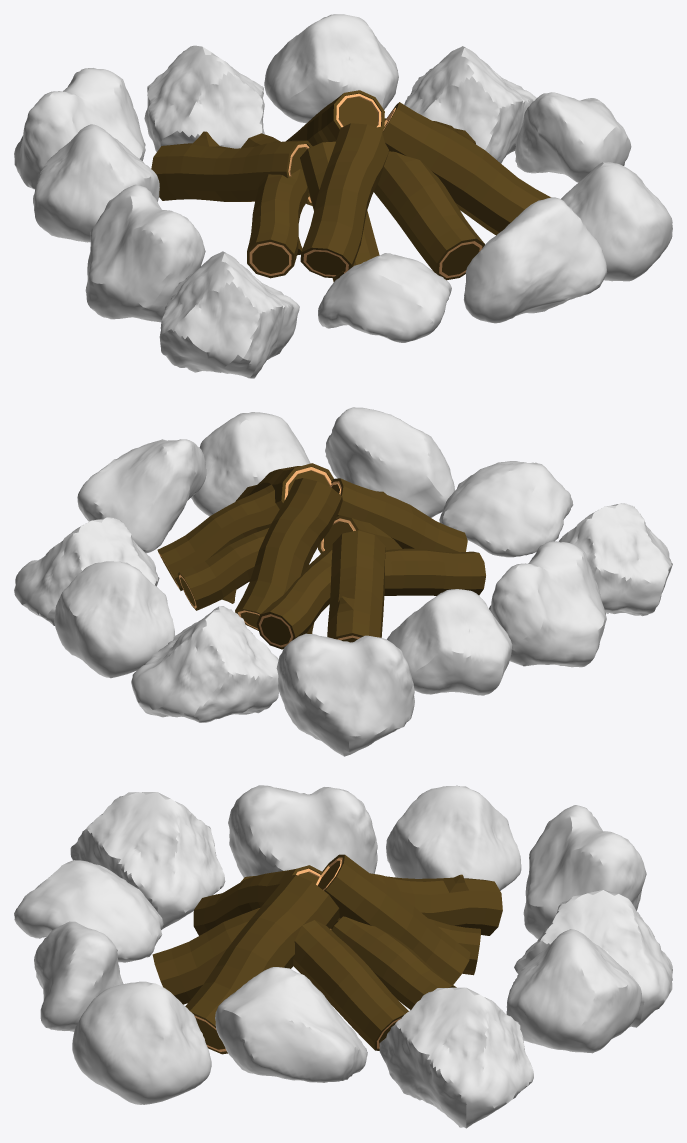
Rendered from fogueira1.fbx.
The picture shows the model from 3 angles, top to bottom: view 1: azimuth 30°, elevation 25°; view 2: azimuth 150°, elevation 25°; view 3: azimuth 270°, elevation 25°; orthographic projection. The views are drawn at different scales.
Visible parts, largest first — view 1: Fogueira; view 2: Fogueira; view 3: Fogueira.
Part boxes in pixels (bbox=[...]): Fogueira: bbox=[14, 14, 672, 378]; Fogueira: bbox=[14, 407, 672, 756]; Fogueira: bbox=[14, 785, 672, 1128].
Size of the model in its own units: 77.8 by 22.5 by 81.44.
